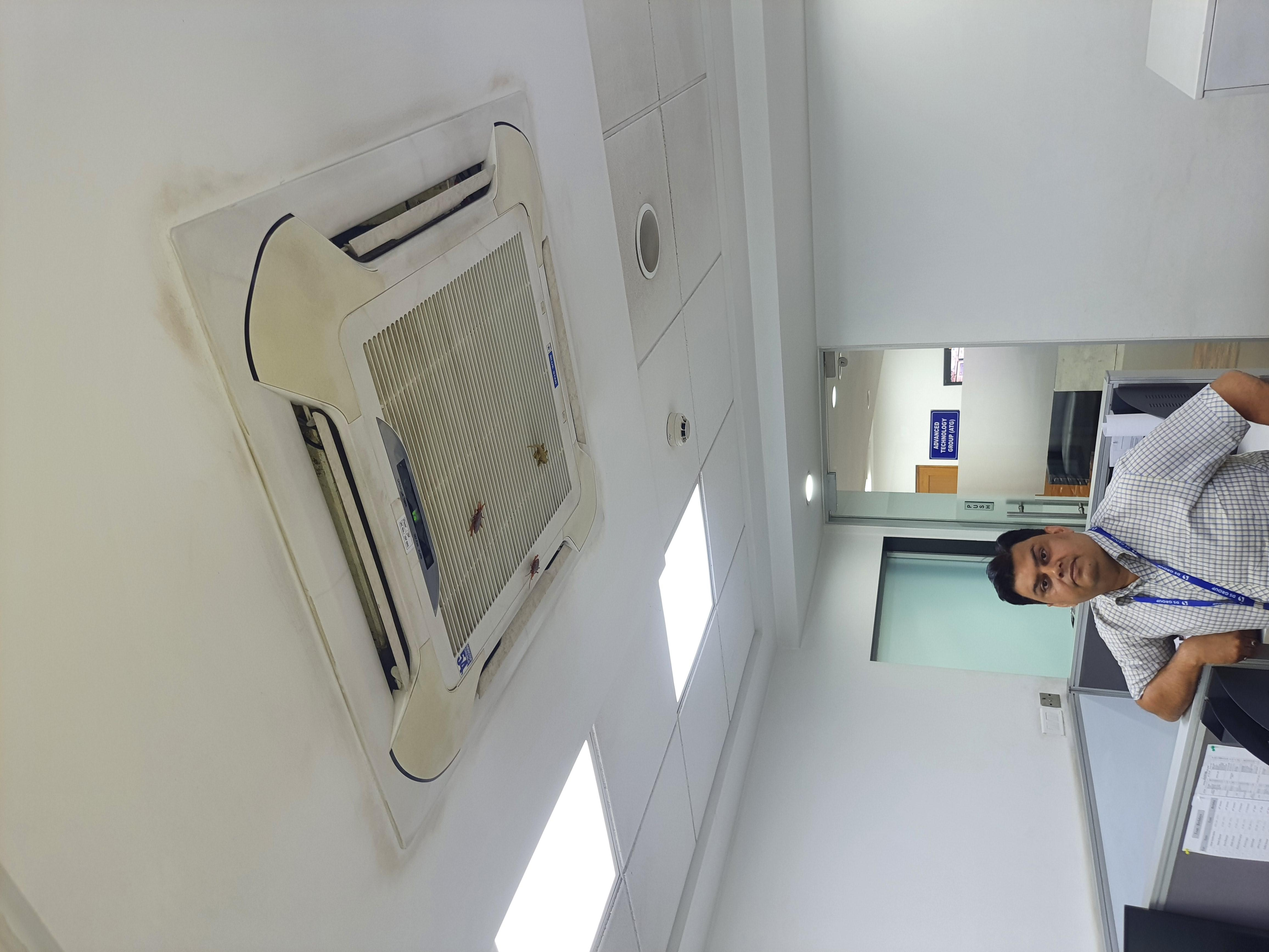cockroach: (545, 346, 606, 368), (484, 391, 534, 410)
lizard: (643, 394, 688, 415)
